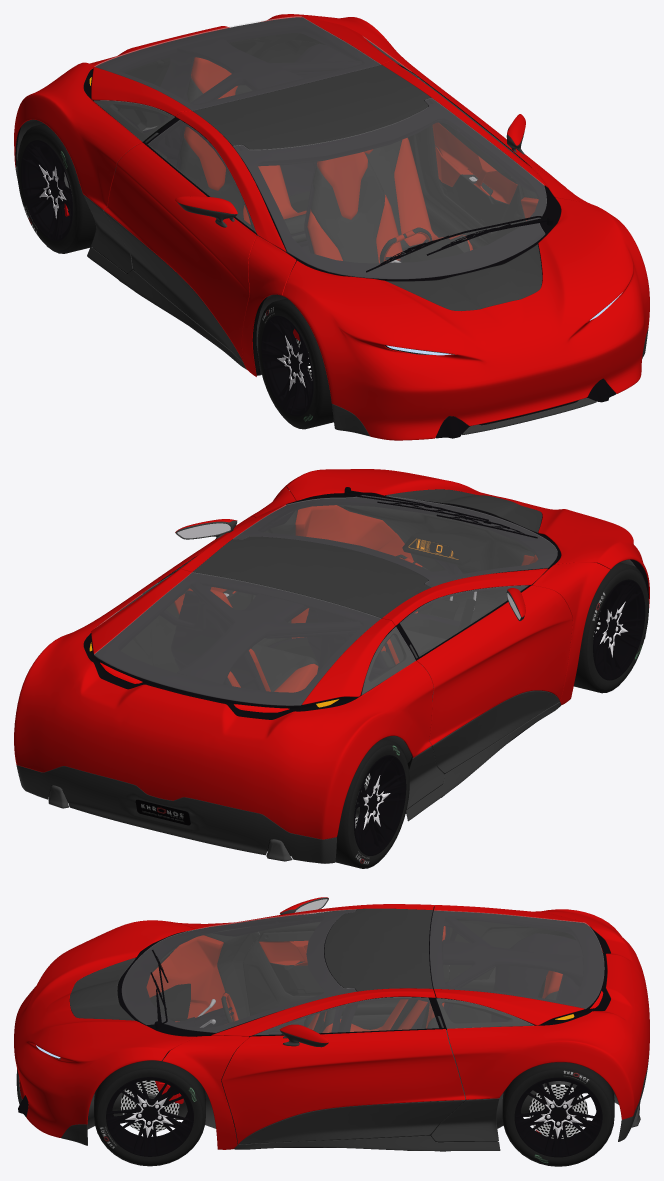
Rendered from carconcept.glb.
3 views of the same model, one above another, from view 1: azimuth 30°, elevation 25°; view 2: azimuth 150°, elevation 25°; view 3: azimuth 270°, elevation 25° (orthographic). The views are drawn at different scales.
Parts seen in each view (by area): view 1: BodyHood, BodyWindshield, BodyRearwindow, BodyDoorRColor1, BodyRearPanelsColor1, BodyRoofPanel, BodyWindshieldGasket, InteriorSeatsColor1, InteriorSeatsColor2, BodyPillars, InteriorPillar, InteriorRearHatch (+21 smaller); view 2: BodyRearPanelsColor1, BodyRearwindow, BodyWindshield, BodyDoorRColor1, BodyPanelsColor2, BodyRoofPanel, BodyHood, InteriorRearHatch, BodyPillars, InteriorPillar, BodyWindshieldGasket, InteriorDashMid (+22 smaller); view 3: BodyRearPanelsColor1, BodyWindshield, BodyDoorLColor1, BodyHood, BodyRearwindow, BodyRoofPanel, BodyPillars, BodyWindshieldGasket, BodyDoorLColor2, BodyPanelsColor2, InteriorRearHatch, WheelFrontLRim (+25 smaller).
Part boxes in pixels (<box>): BodyHood: <box>282,197,649,440</box>; BodyWindshield: <box>233,98,546,278</box>; BodyRearwindow: <box>94,16,380,110</box>; BodyDoorRColor1: <box>104,142,256,361</box>; BodyRearPanelsColor1: <box>14,14,427,209</box>; BodyRoofPanel: <box>193,65,430,149</box>; BodyWindshieldGasket: <box>233,99,561,281</box>; InteriorSeatsColor1: <box>184,57,472,263</box>; InteriorSeatsColor2: <box>179,78,469,263</box>; BodyPillars: <box>175,61,595,376</box>; InteriorPillar: <box>157,37,432,168</box>; InteriorRearHatch: <box>93,17,380,117</box>; BodyRearPanelsColor1: <box>14,569,433,839</box>; BodyRearwindow: <box>94,572,380,705</box>; BodyWindshield: <box>233,495,557,586</box>; BodyDoorRColor1: <box>416,585,572,745</box>; BodyPanelsColor2: <box>16,635,645,863</box>; BodyRoofPanel: <box>192,536,430,618</box>; BodyHood: <box>283,469,649,607</box>; InteriorRearHatch: <box>94,573,394,709</box>; BodyPillars: <box>179,487,609,704</box>; InteriorPillar: <box>177,574,425,684</box>; BodyWindshieldGasket: <box>234,495,561,587</box>; InteriorDashMid: <box>337,501,538,623</box>; BodyRearPanelsColor1: <box>434,905,649,1119</box>; BodyWindshield: <box>122,909,356,1032</box>; BodyDoorLColor1: <box>221,1029,465,1144</box>; BodyHood: <box>14,920,195,1137</box>; BodyRearwindow: <box>430,910,604,1008</box>; BodyRoofPanel: <box>324,908,432,991</box>; BodyPillars: <box>162,904,435,1149</box>; BodyWindshieldGasket: <box>117,910,356,1036</box>; BodyDoorLColor2: <box>239,1100,465,1144</box>; BodyPanelsColor2: <box>16,1054,649,1151</box>; InteriorRearHatch: <box>429,910,603,1025</box>; WheelFrontLRim: <box>106,1077,193,1156</box>.
Size of the model in its own units: 2.34 by 1.15 by 4.36.
Materials: 23 (6 with a texture image).
